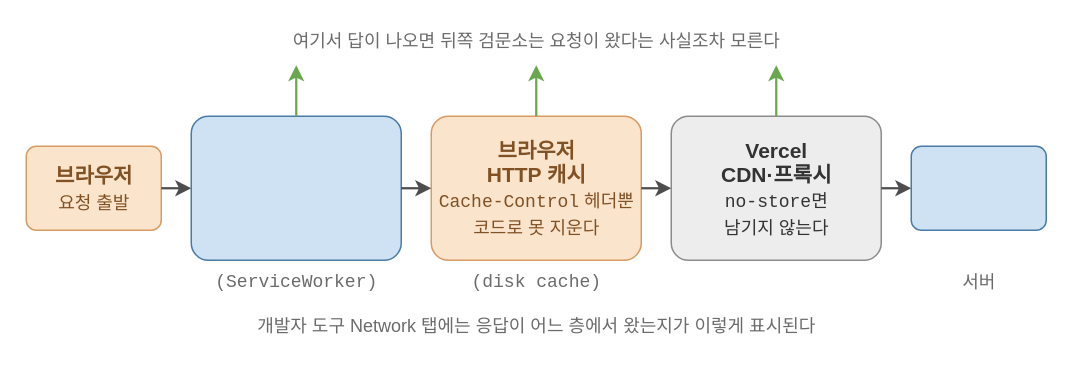
The diagram is 1073 pixels wide and 366 high, and some of its shapes have lost their labels. The shapes that lost their labels are listed below. From the top down, each one's centre as x and y in pixels, then its label:
At (x=295, y=187): "서비스 워커 Cache Storage 우리 코드가 전부 정한다 caches.delete 로 골라 지운다".
At (x=978, y=187): "서버 Go 함수".
